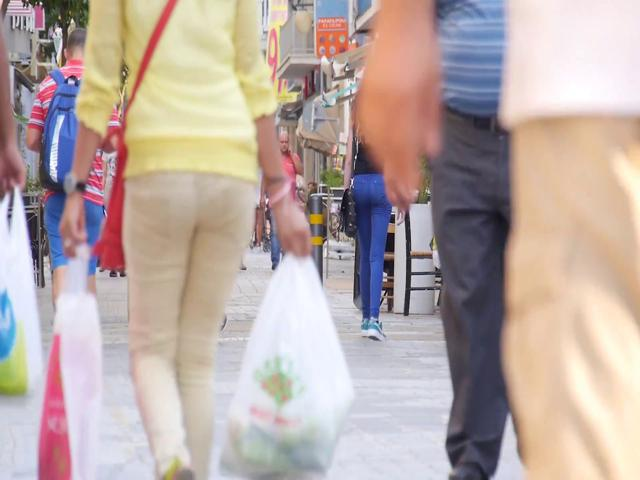shoe: (368, 319, 387, 342)
